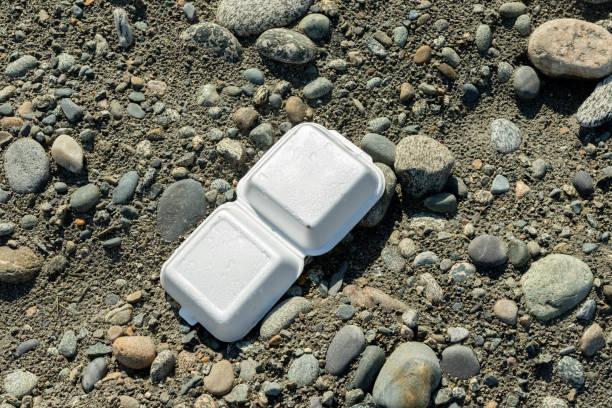PS: (162, 120, 389, 343)
